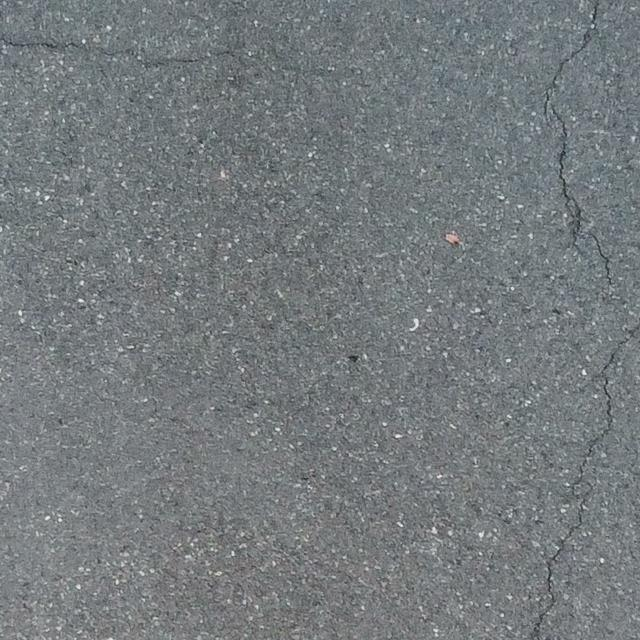LongitudinalCrack: (532, 326, 639, 638), (541, 1, 617, 288)
